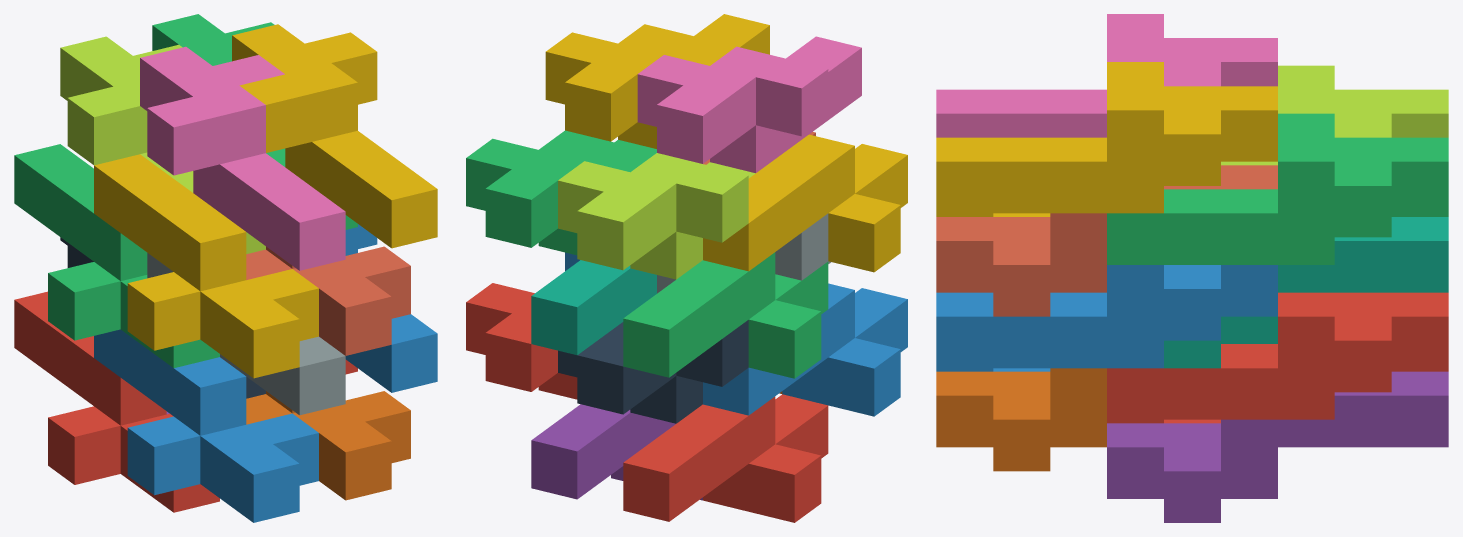
File: tiling.obj
3 renders of one model, left to right at view 1: azimuth 30°, elevation 25°; view 2: azimuth 150°, elevation 25°; view 3: azimuth 270°, elevation 25°, orthographic. The views are drawn at different scales.
Parts seen in each view (by area): view 1: copy_1_domain_4, copy_2_domain_4, copy_1_domain_2, copy_2_domain_8, copy_1_domain_3, copy_1_domain_1, copy_2_domain_3, copy_1_domain_6, copy_1_domain_8, copy_2_domain_6, copy_2_domain_2, copy_2_domain_7 (+1 smaller); view 2: copy_2_domain_4, copy_1_domain_1, copy_2_domain_3, copy_1_domain_4, copy_1_domain_3, copy_2_domain_8, copy_1_domain_2, copy_2_domain_7, copy_2_domain_1, copy_1_domain_5, copy_1_domain_7, copy_2_domain_5 (+1 smaller); view 3: copy_2_domain_8, copy_2_domain_7, copy_2_domain_5, copy_2_domain_6, copy_1_domain_5, copy_2_domain_4, copy_1_domain_8, copy_1_domain_6, copy_1_domain_7, copy_2_domain_3, copy_1_domain_1.
Part boxes in pixels (x1,y1,x2,y2): copy_1_domain_4: [94, 154, 318, 378]; copy_2_domain_4: [140, 46, 345, 270]; copy_1_domain_2: [94, 329, 318, 522]; copy_2_domain_8: [232, 24, 437, 248]; copy_1_domain_3: [14, 144, 219, 367]; copy_1_domain_1: [14, 291, 219, 512]; copy_2_domain_3: [60, 36, 265, 253]; copy_1_domain_6: [246, 391, 410, 500]; copy_1_domain_8: [246, 246, 410, 355]; copy_2_domain_6: [345, 224, 437, 392]; copy_2_domain_2: [147, 253, 345, 415]; copy_2_domain_7: [152, 14, 357, 229]; copy_2_domain_4: [637, 36, 861, 173]; copy_1_domain_1: [623, 394, 828, 522]; copy_2_domain_3: [558, 153, 755, 279]; copy_1_domain_4: [703, 134, 907, 272]; copy_1_domain_3: [623, 252, 828, 378]; copy_2_domain_8: [545, 14, 769, 148]; copy_1_domain_2: [703, 283, 907, 416]; copy_2_domain_7: [466, 130, 656, 255]; copy_2_domain_1: [558, 320, 748, 423]; copy_1_domain_5: [531, 404, 702, 500]; copy_1_domain_7: [531, 260, 656, 355]; copy_2_domain_5: [466, 283, 577, 399]; copy_2_domain_8: [936, 62, 1277, 213]; copy_2_domain_7: [1107, 113, 1448, 264]; copy_2_domain_5: [1107, 292, 1448, 419]; copy_2_domain_6: [936, 265, 1277, 368]; copy_1_domain_5: [1107, 371, 1448, 522]; copy_2_domain_4: [936, 14, 1277, 137]; copy_1_domain_8: [936, 165, 1277, 316]; copy_1_domain_6: [936, 368, 1106, 471]; copy_1_domain_7: [1164, 217, 1448, 368]; copy_2_domain_3: [1221, 65, 1448, 165]; copy_1_domain_1: [1107, 368, 1448, 423].
Size of the model in its own units: 6 by 8 by 9.
